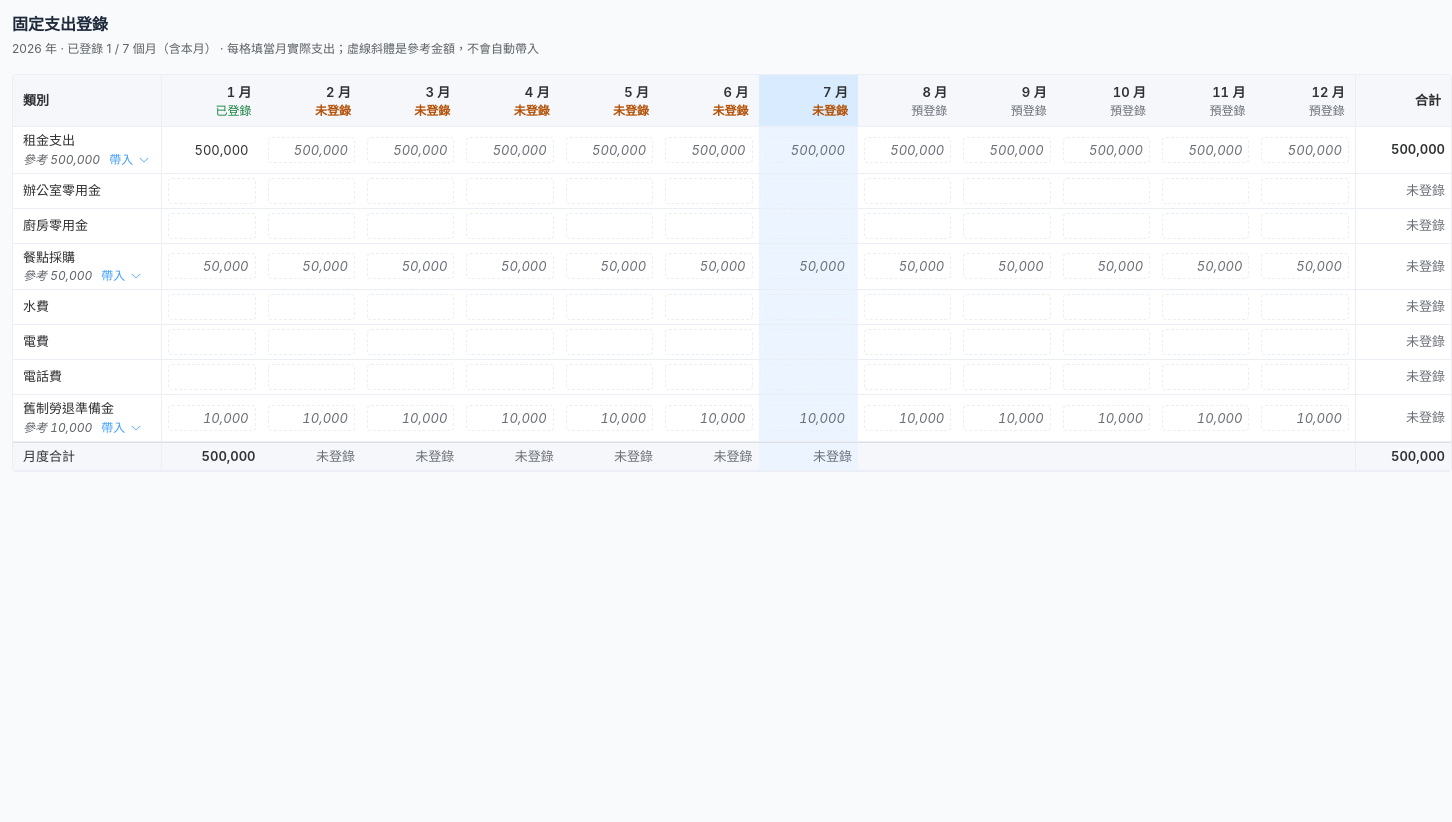
合計 › 合計含編輯中的值，並在下方標「未儲存」
The width and height of the screenshot is (1452, 822).
Type "4500" into the 2nd field with placeholder "50,000" at (311, 266), box left=268, top=253, right=355, bottom=279
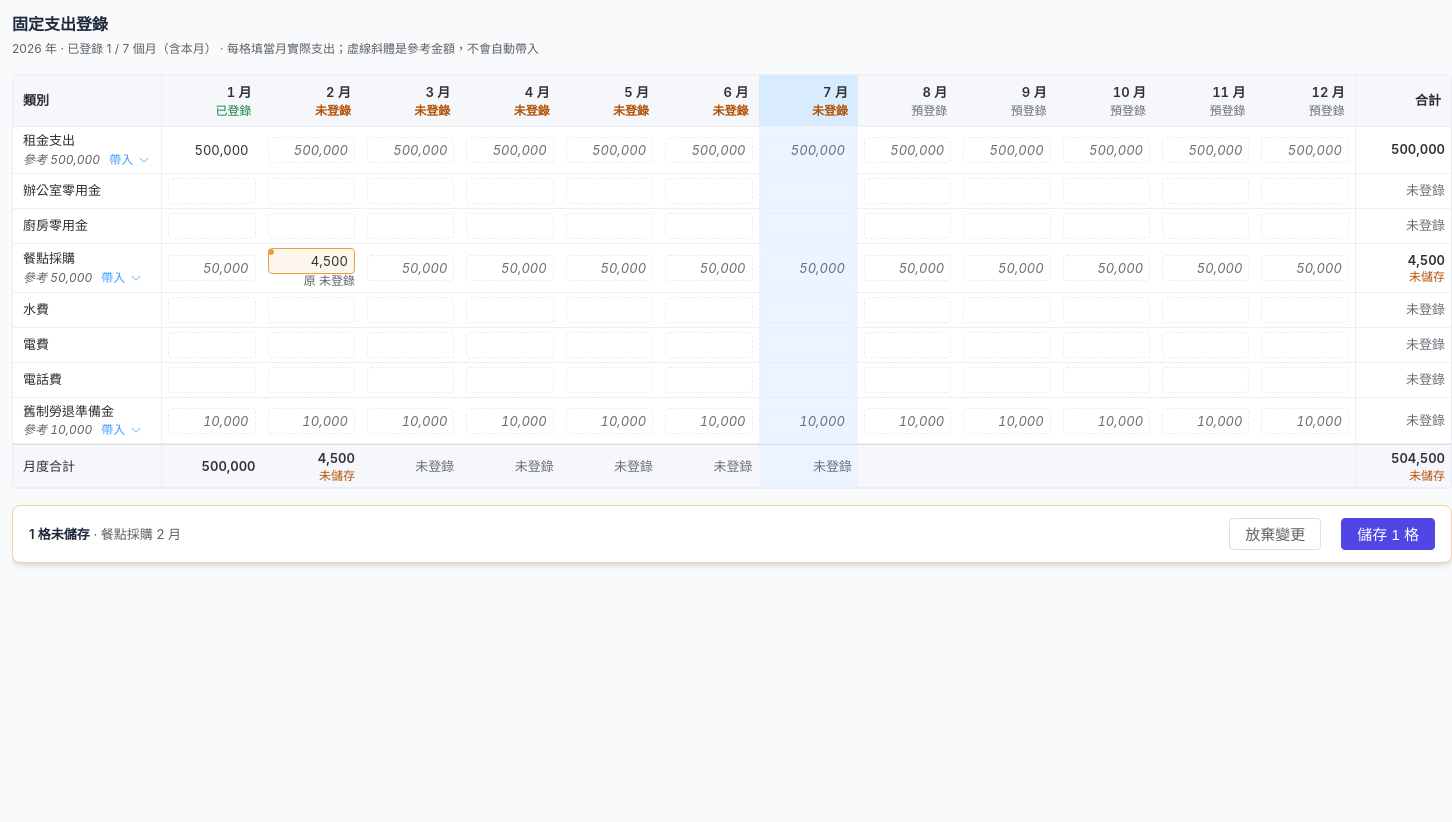
Expected: the cell "4,500 未儲存" in the row of "月度合計" is shown, left=318, top=450, right=355, bottom=466
Expected: the cell "4,500 未儲存" in the row of "參考 50,000" is shown, left=1408, top=252, right=1445, bottom=268
Expected: the cell "504,500 未儲存" is shown, left=1355, top=444, right=1451, bottom=488
